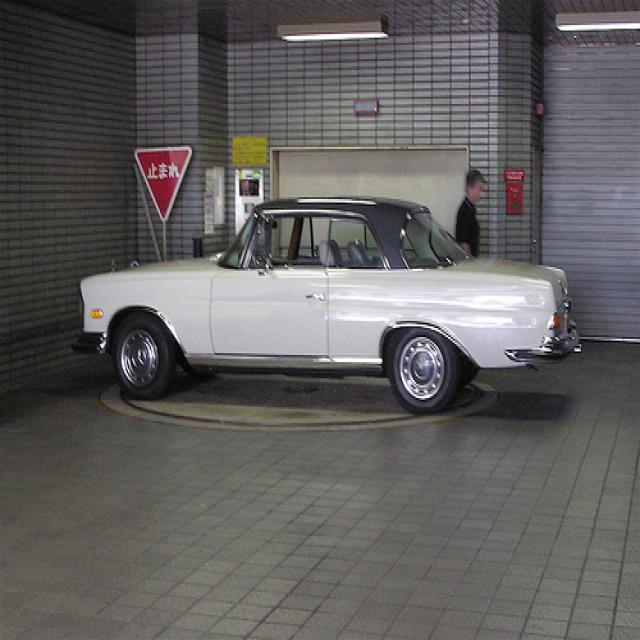Car: (74, 196, 580, 412)
